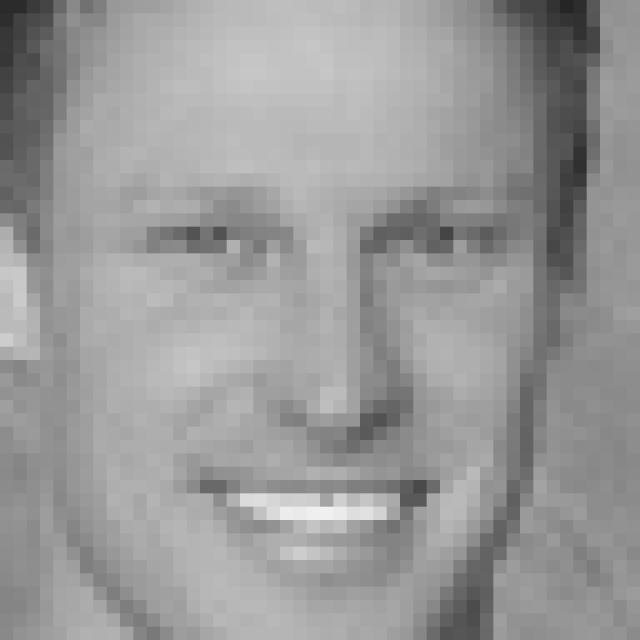happy: (97, 162, 536, 608)
